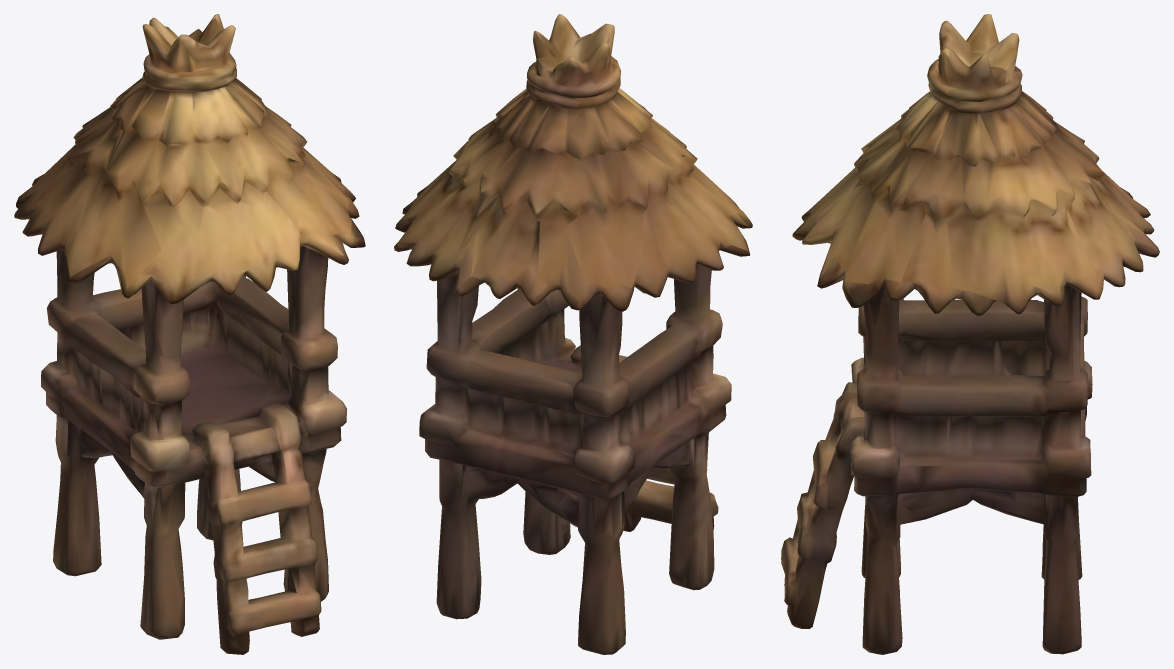
The model's file is c08_torre_vigia.glb.
3 views of the same model, side by side, from view 1: azimuth 30°, elevation 25°; view 2: azimuth 150°, elevation 25°; view 3: azimuth 270°, elevation 25° (orthographic). The views are drawn at different scales.
Visible parts, largest first — view 1: c08_torre_vigia; view 2: c08_torre_vigia; view 3: c08_torre_vigia.
Part boxes in pixels (x1=…): c08_torre_vigia: x1=14, y1=14, x2=365, y2=654; c08_torre_vigia: x1=394, y1=14, x2=752, y2=654; c08_torre_vigia: x1=781, y1=14, x2=1159, y2=654.
Bounding box in the file's own units: 1.47 × 2.62 × 1.55.
1 material, 1 textured.
